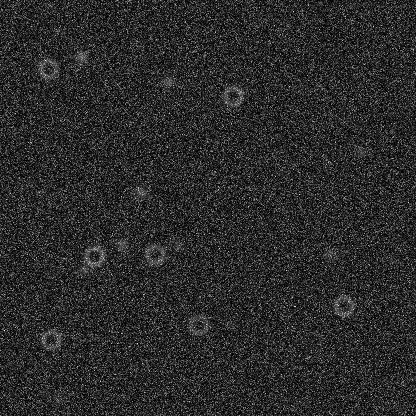Ring: (142, 242, 166, 266), (331, 293, 355, 317), (82, 244, 106, 268), (38, 327, 62, 351), (186, 312, 210, 336), (220, 84, 244, 108), (36, 56, 60, 80), (301, 328, 325, 352)
Spot: (113, 236, 129, 252), (50, 23, 66, 39), (277, 163, 293, 179), (352, 143, 368, 159), (170, 237, 186, 253), (321, 247, 337, 263), (160, 73, 176, 89), (132, 183, 148, 199), (73, 48, 89, 64), (51, 390, 67, 406), (76, 261, 92, 277)
